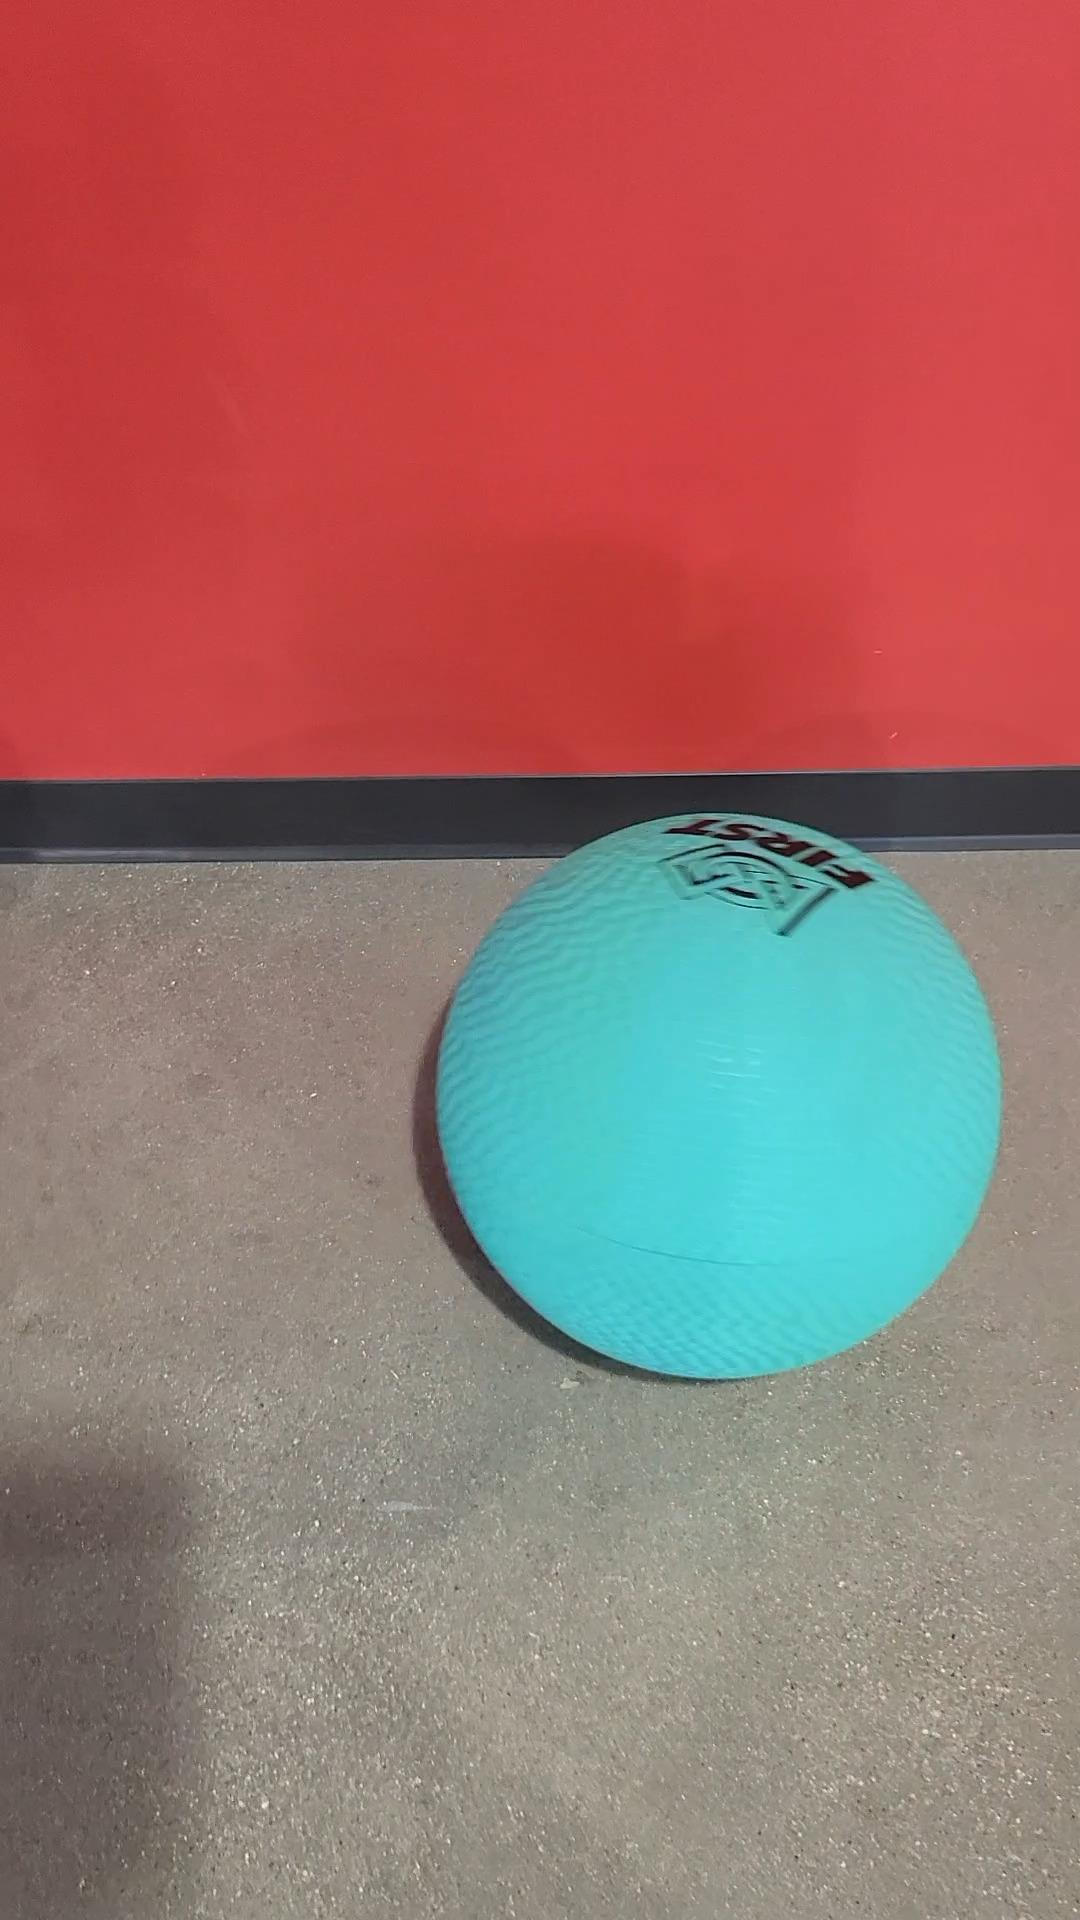algae: (436, 816, 998, 1377)
